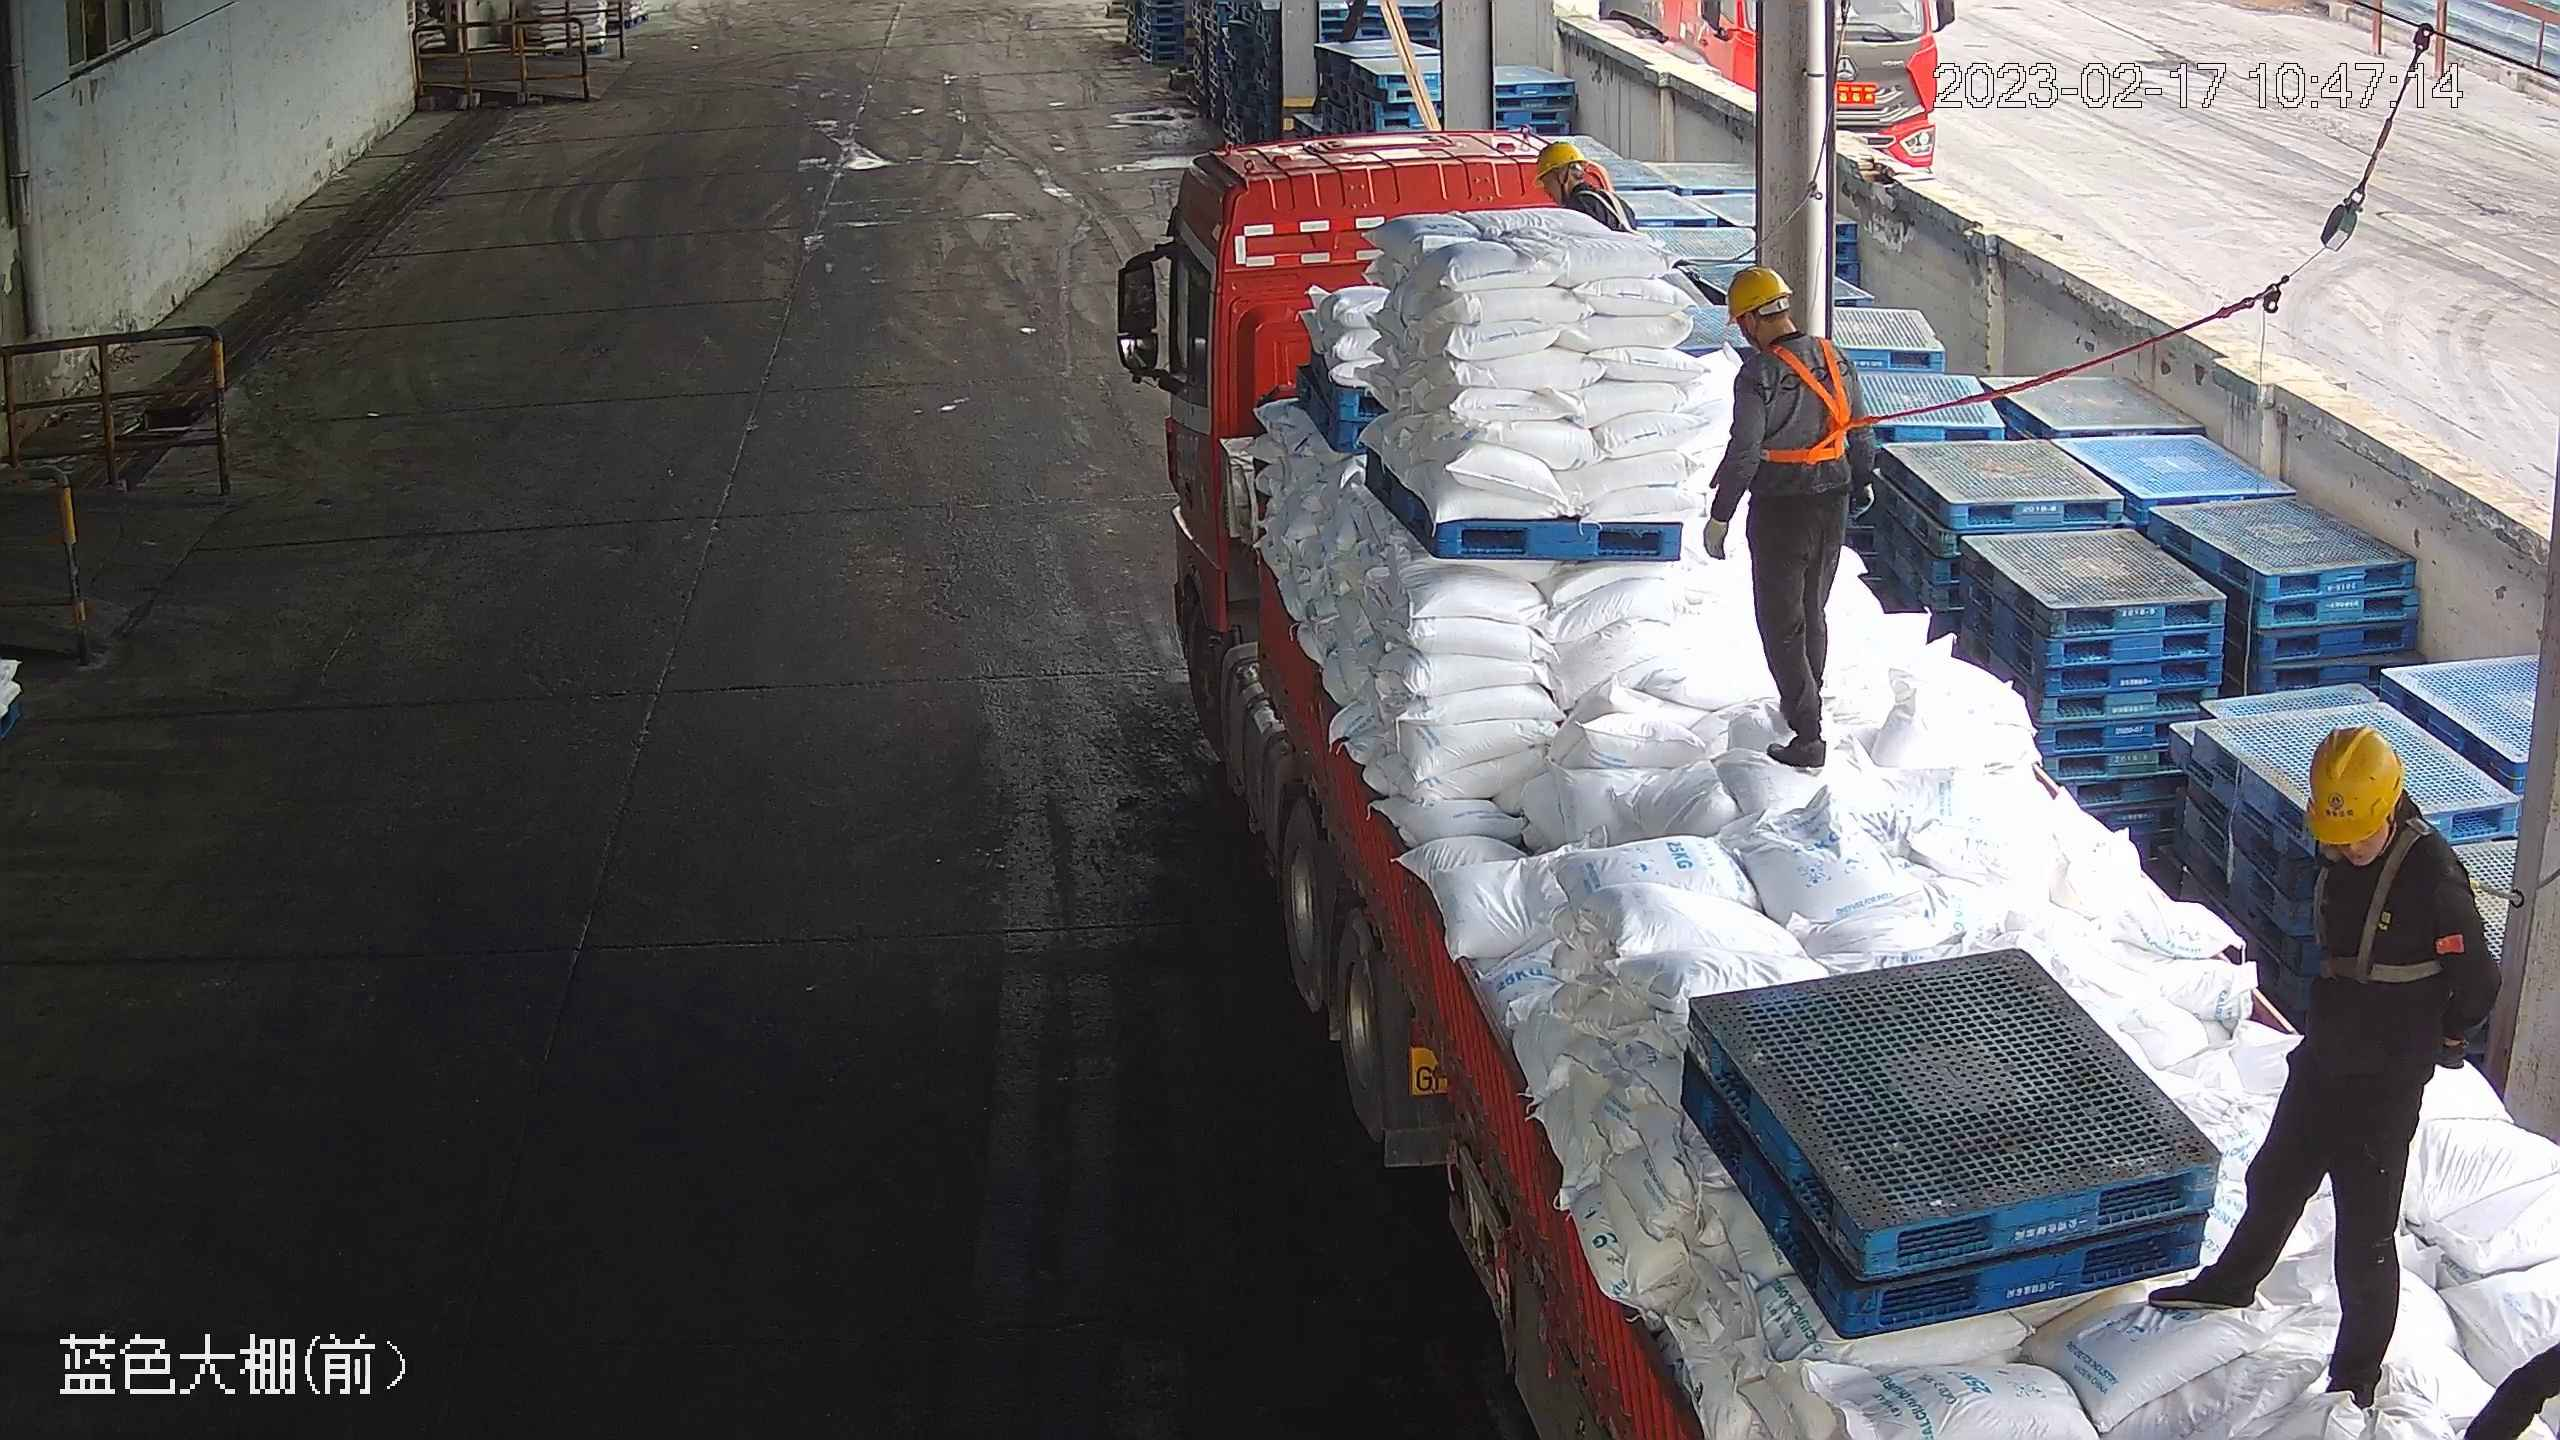belt: (2296, 816, 2449, 988), (1743, 337, 1855, 464), (1570, 181, 1644, 237)
head: (2293, 723, 2478, 901), (1723, 265, 1867, 396), (1525, 140, 1640, 222)
helmet: (2306, 725, 2405, 847), (1726, 267, 1794, 323), (1527, 142, 1593, 185)
people: (2136, 727, 2500, 1424), (1703, 266, 1879, 772)
truck: (1161, 122, 2560, 1440)
